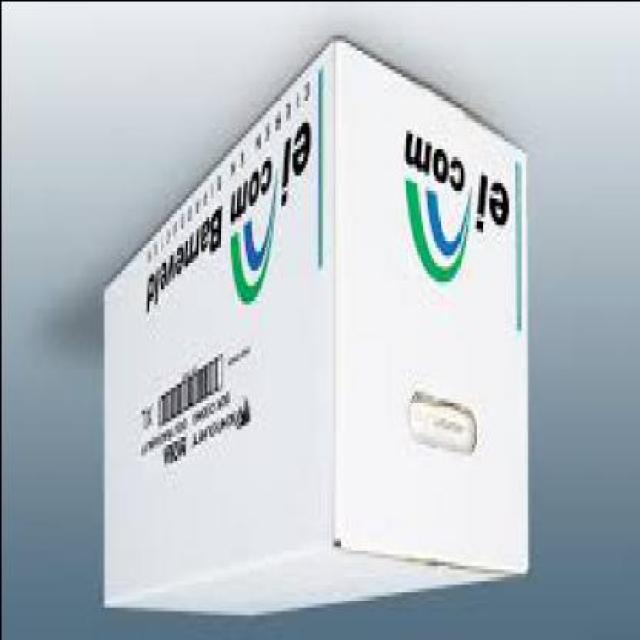CARDBOARD: (105, 38, 533, 617)
